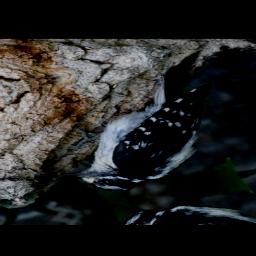Woodpecker: (6, 48, 256, 204)
